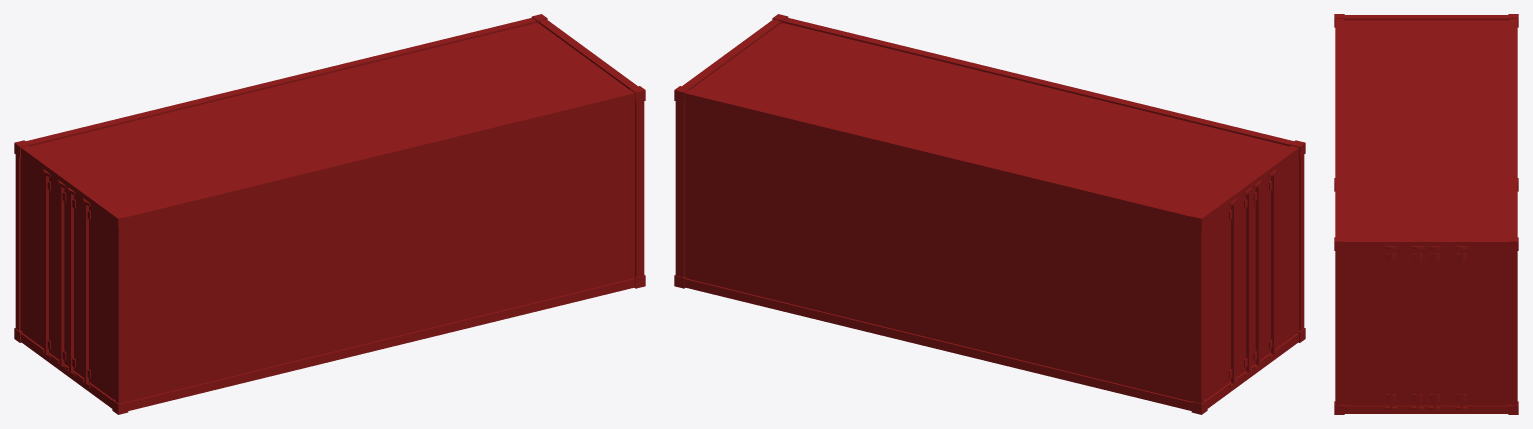
File: CargoContainer.fbx
The picture shows the model from 3 angles, left to right: view 1: azimuth 30°, elevation 25°; view 2: azimuth 150°, elevation 25°; view 3: azimuth 270°, elevation 25°; orthographic projection. The views are drawn at different scales.
Parts seen in each view (by area): view 1: Cube_1; view 2: Cube_1; view 3: Cube_1.
Boxes of the visible parts, x1=… form: Cube_1: x1=14, y1=14, x2=645, y2=414; Cube_1: x1=674, y1=14, x2=1305, y2=414; Cube_1: x1=1334, y1=14, x2=1518, y2=414.
Size of the model in its own units: 1254 by 444 by 427.
